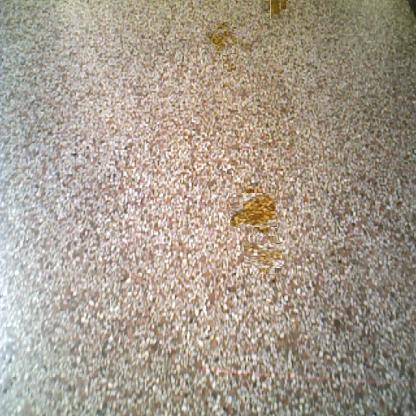liquid: (232, 190, 274, 230), (247, 239, 279, 271), (212, 25, 236, 49), (266, 0, 284, 15), (222, 54, 236, 72)
